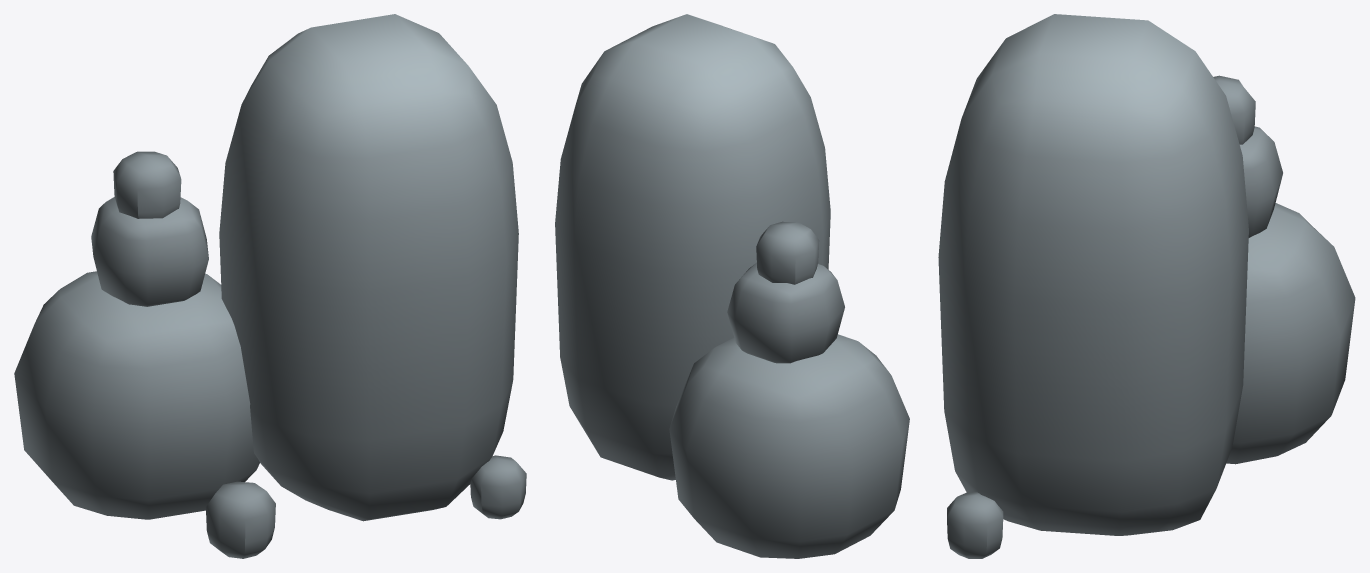
The model's file is Rock_6_G_Color1.gltf.
3 renders of one model, left to right at view 1: azimuth 30°, elevation 25°; view 2: azimuth 150°, elevation 25°; view 3: azimuth 270°, elevation 25°, orthographic. The views are drawn at different scales.
Visible parts, largest first — view 1: Rock_6_G_Color1; view 2: Rock_6_G_Color1; view 3: Rock_6_G_Color1.
Part boxes in pixels (x1=…): Rock_6_G_Color1: x1=14, y1=14, x2=526, y2=558; Rock_6_G_Color1: x1=555, y1=14, x2=909, y2=558; Rock_6_G_Color1: x1=938, y1=14, x2=1355, y2=558.
Size of the model in its own units: 1.94 by 2.09 by 1.64.
Materials: 1 (1 with a texture image).
